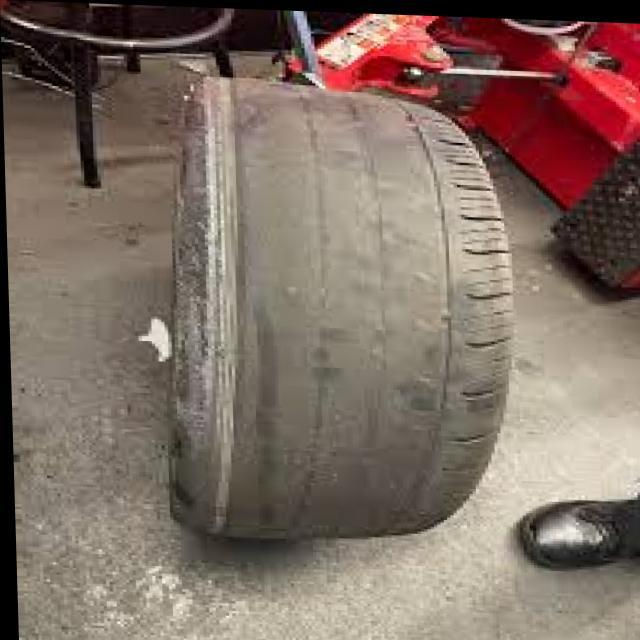Flat spots: (192, 111, 433, 520)
